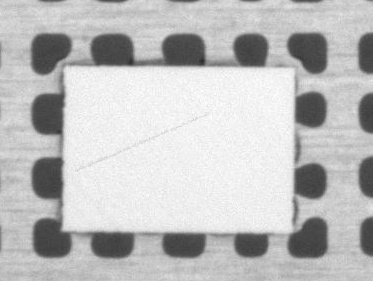DIE_CRACK: (102, 86, 275, 128)
